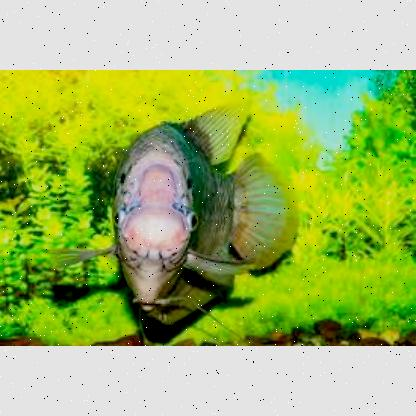gurame: (96, 111, 292, 329)
